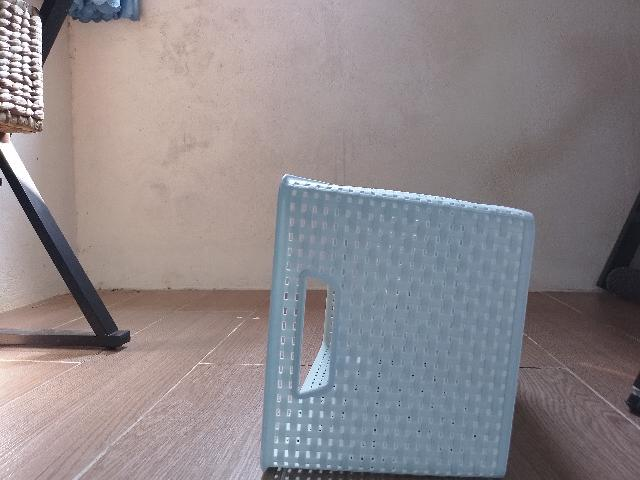cart: (260, 174, 536, 478)
